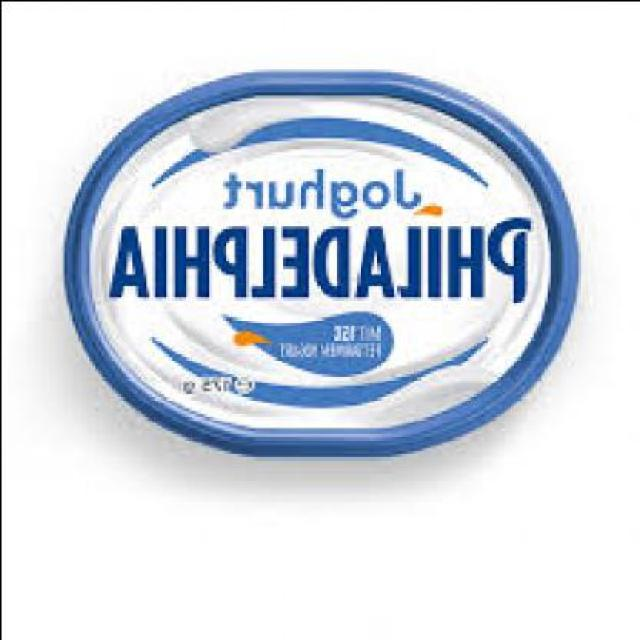PLASTIC: (63, 65, 577, 452)
